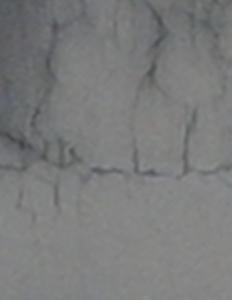fissura: (7, 8, 232, 225)
